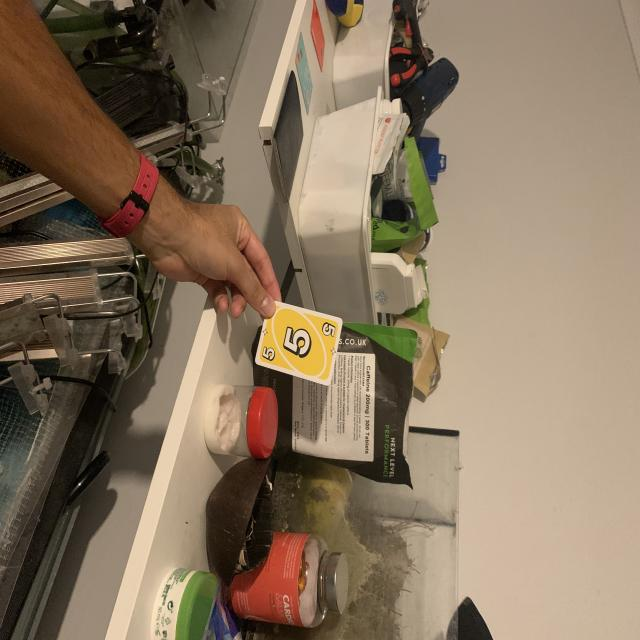lyellow-5: (316, 316, 338, 339)
